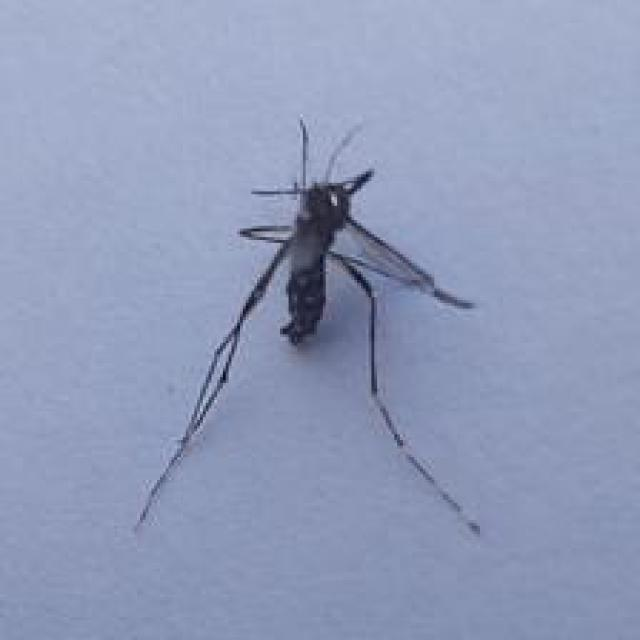Aedes albopictus: (133, 113, 484, 541)
